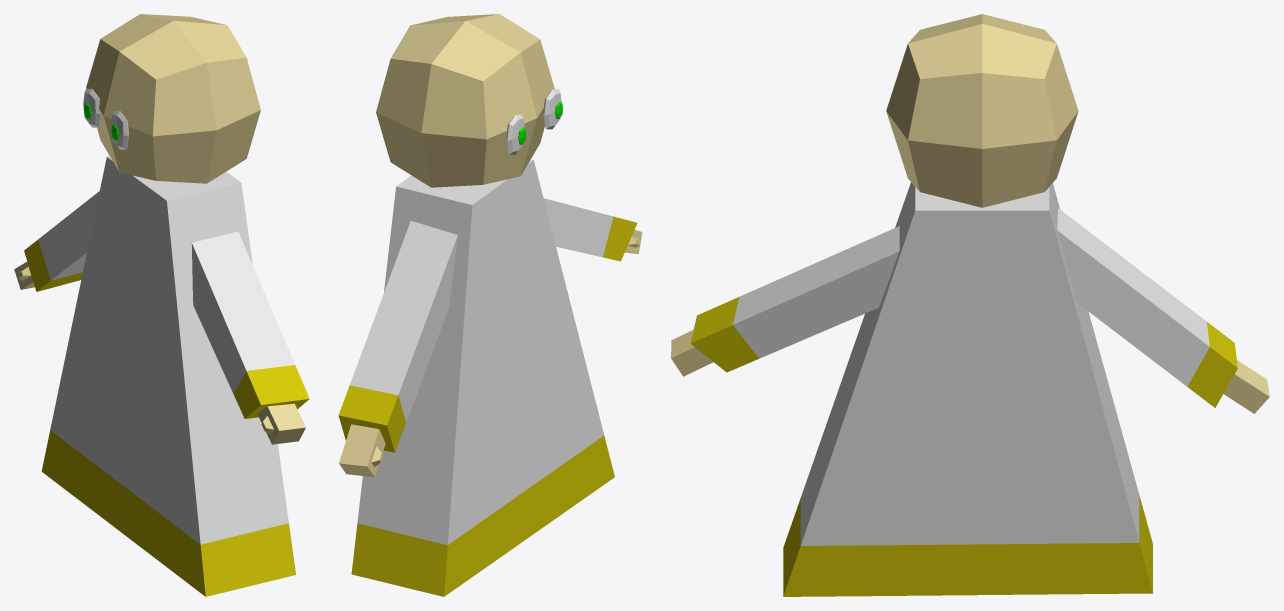
Rendered from Imp 1.fbx.
3 views of the same model, side by side, from view 1: azimuth 30°, elevation 25°; view 2: azimuth 150°, elevation 25°; view 3: azimuth 270°, elevation 25° (orthographic). The views are drawn at different scales.
Visible parts, largest first — view 1: Torus; view 2: Torus; view 3: Torus.
Part boxes in pixels (bbox=[...]): Torus: bbox=[14, 14, 309, 596]; Torus: bbox=[338, 14, 642, 596]; Torus: bbox=[671, 14, 1269, 596].
Size of the model in its own units: 2.32 by 7.53 by 7.36.
